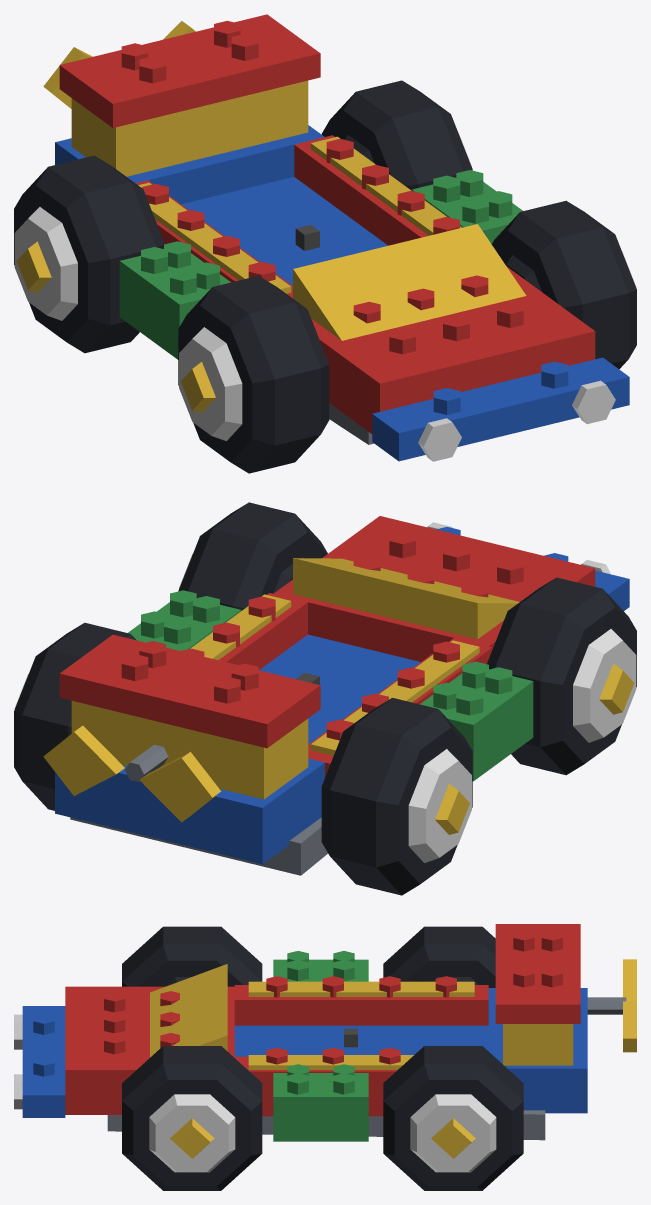
File: kart-toyRoom.glb
3 views of the same model, one above another, from view 1: azimuth 30°, elevation 25°; view 2: azimuth 150°, elevation 25°; view 3: azimuth 270°, elevation 25° (orthographic). The views are drawn at different scales.
Parts seen in each view (by area): view 1: kart-toyRoom, wheel-front-right, wheel-back-right, wheel-front-left, wheel-back-left; view 2: kart-toyRoom, wheel-back-right, wheel-front-right, wheel-front-left, wheel-back-left; view 3: kart-toyRoom, wheel-back-left, wheel-front-left, wheel-front-right, wheel-back-right.
Boxes of the visible parts, <box> form: kart-toyRoom: <box>43,14,629,461</box>; wheel-front-right: <box>178,276,329,473</box>; wheel-back-right: <box>14,155,164,353</box>; wheel-front-left: <box>491,200,636,369</box>; wheel-back-left: <box>321,80,472,190</box>; kart-toyRoom: <box>43,516,629,875</box>; wheel-back-right: <box>321,698,472,895</box>; wheel-front-right: <box>487,577,636,775</box>; wheel-front-left: <box>178,502,327,610</box>; wheel-back-left: <box>14,622,136,810</box>; kart-toyRoom: <box>14,924,636,1141</box>; wheel-back-left: <box>383,1046,523,1190</box>; wheel-front-left: <box>122,1046,262,1190</box>; wheel-front-right: <box>122,926,262,986</box>; wheel-back-right: <box>383,926,495,987</box>.
Size of the model in its own units: 1.12 by 0.5286 by 1.76.
